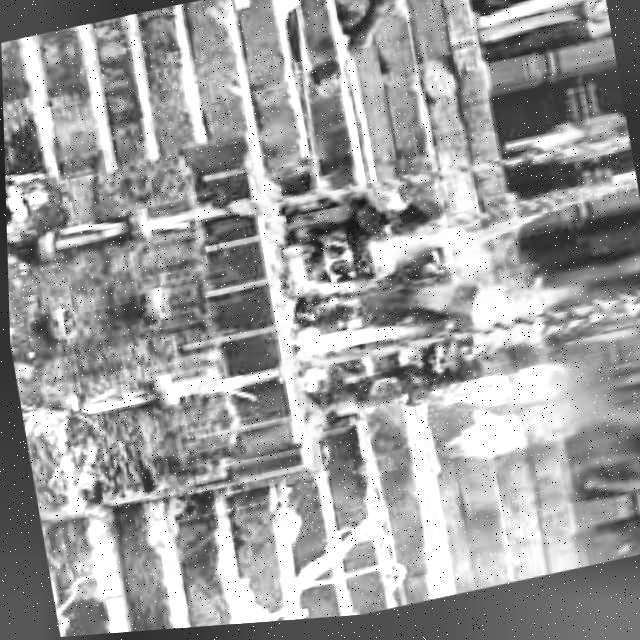Smoke: (271, 208, 546, 388)
